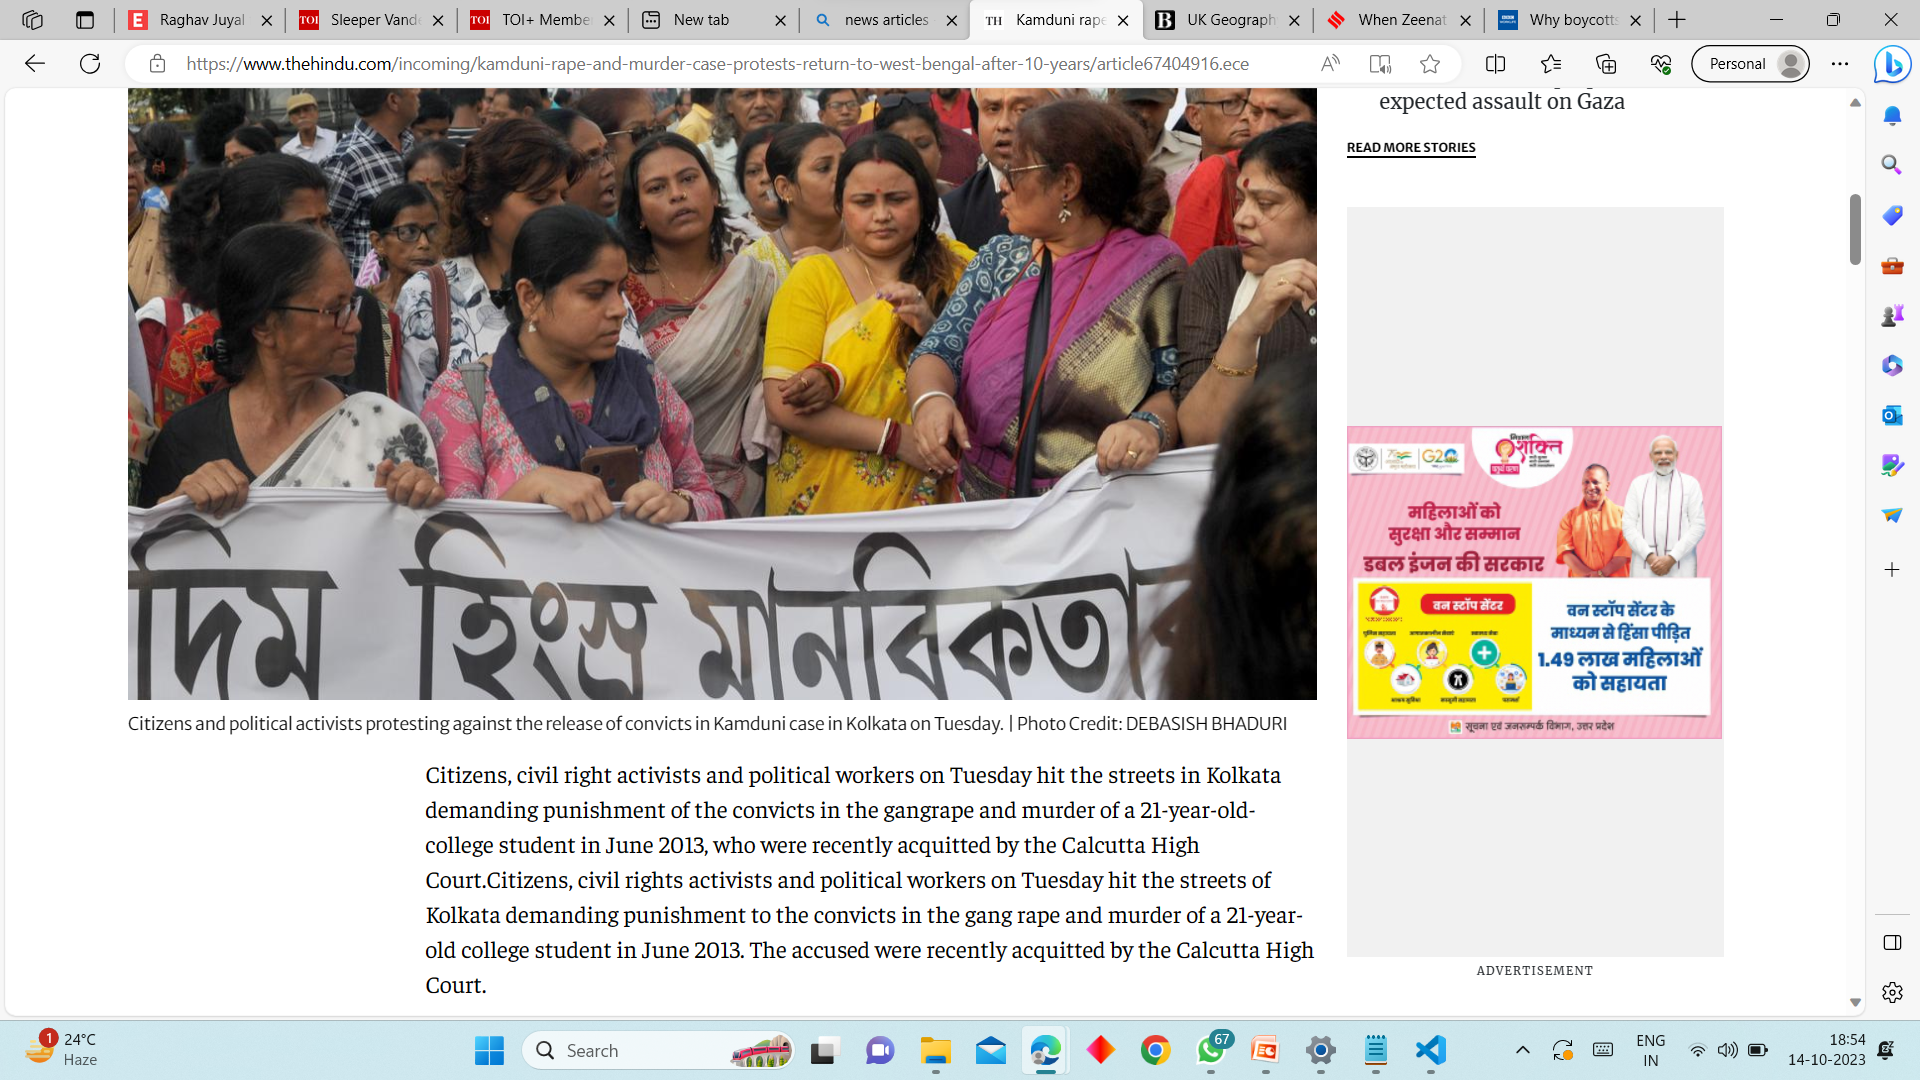Image: (128, 90, 1315, 700), (1348, 206, 1700, 935)
Paragraph: (393, 761, 1315, 977), (105, 707, 1305, 740), (1340, 125, 1514, 173), (1370, 92, 1626, 119), (1462, 959, 1605, 993)
